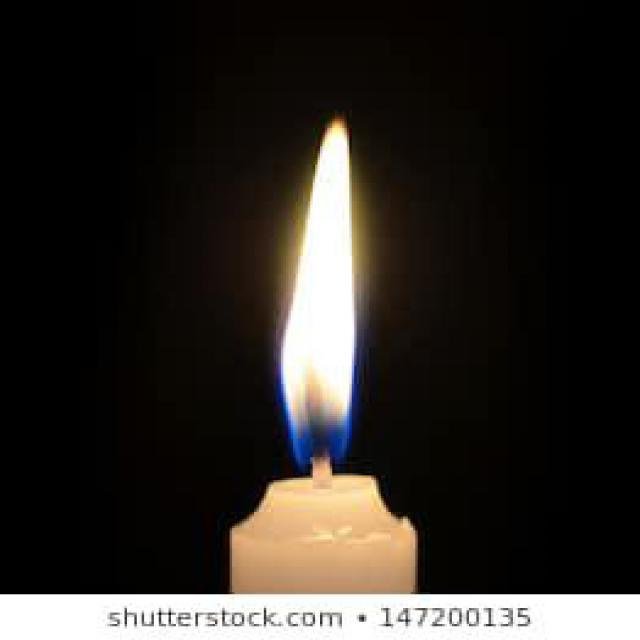Fire: (278, 119, 356, 468)
